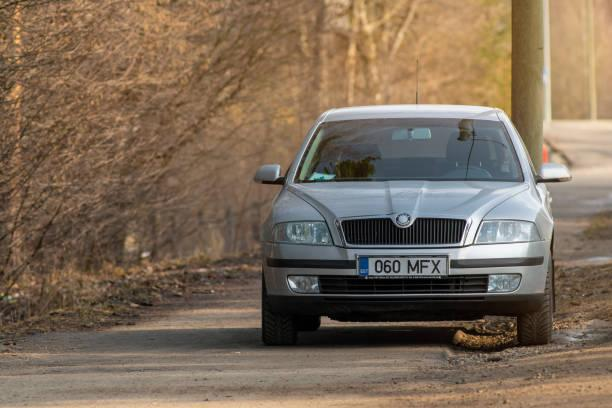skoda: (393, 209, 417, 231)
